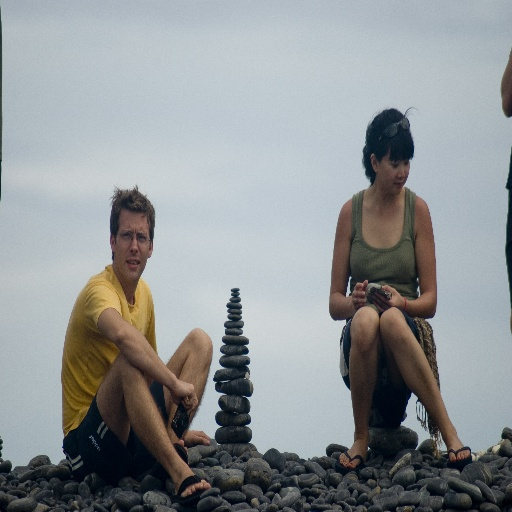hand: (169, 378, 199, 416), (370, 283, 405, 311), (351, 279, 370, 309), (183, 428, 212, 446)
